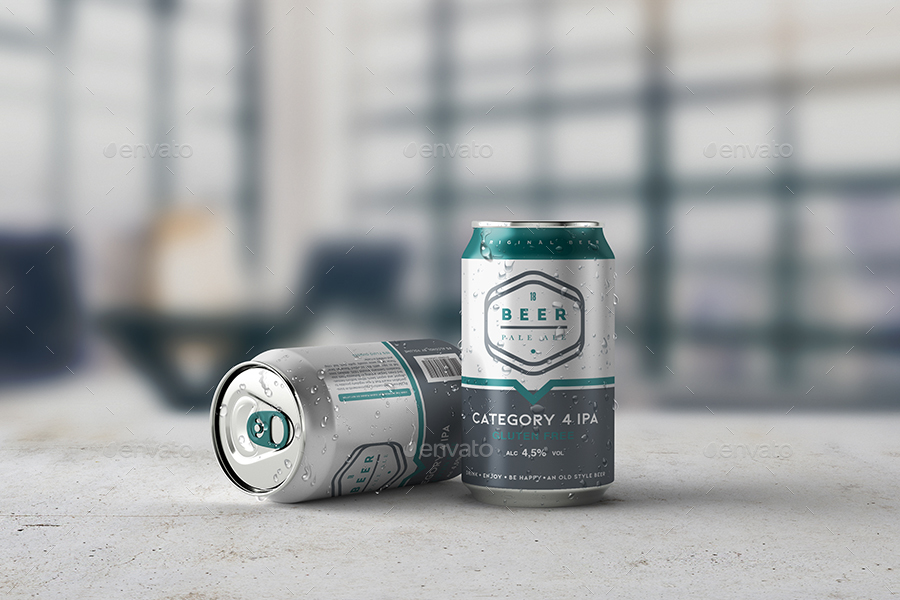beer can: (457, 224, 618, 509), (202, 343, 462, 493)
